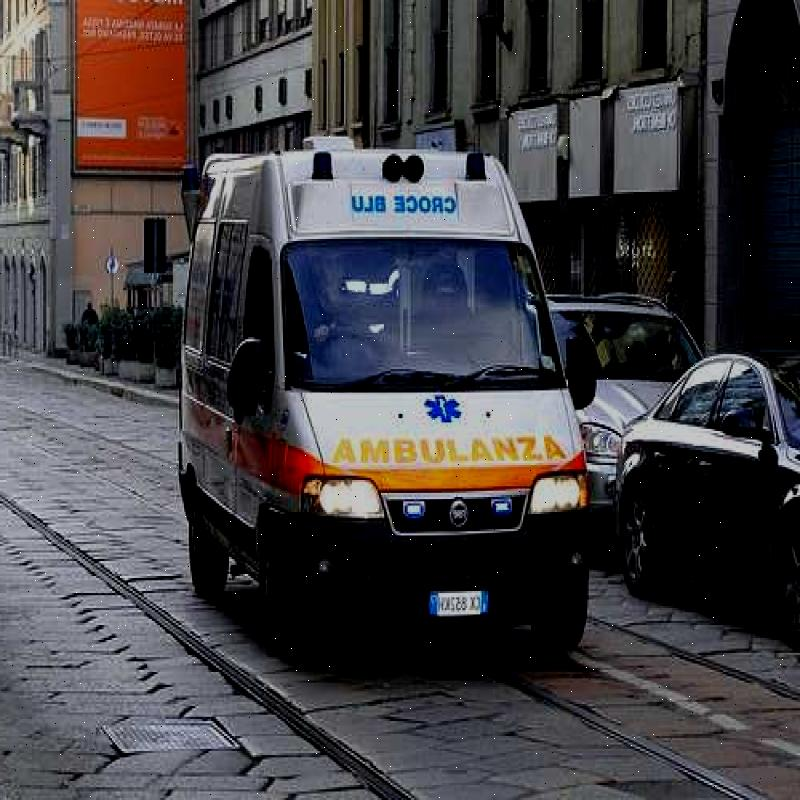AmbulanceSiren: (279, 141, 499, 204)
